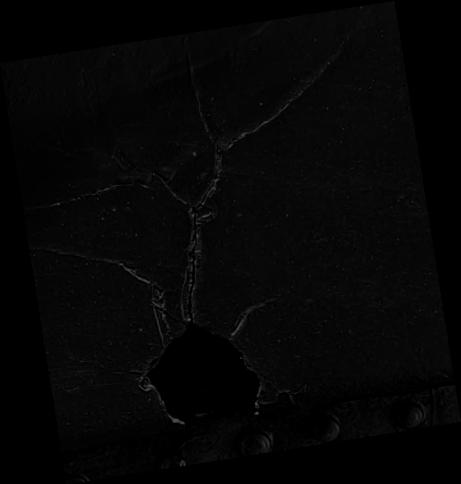crack: (0, 1, 461, 484)
